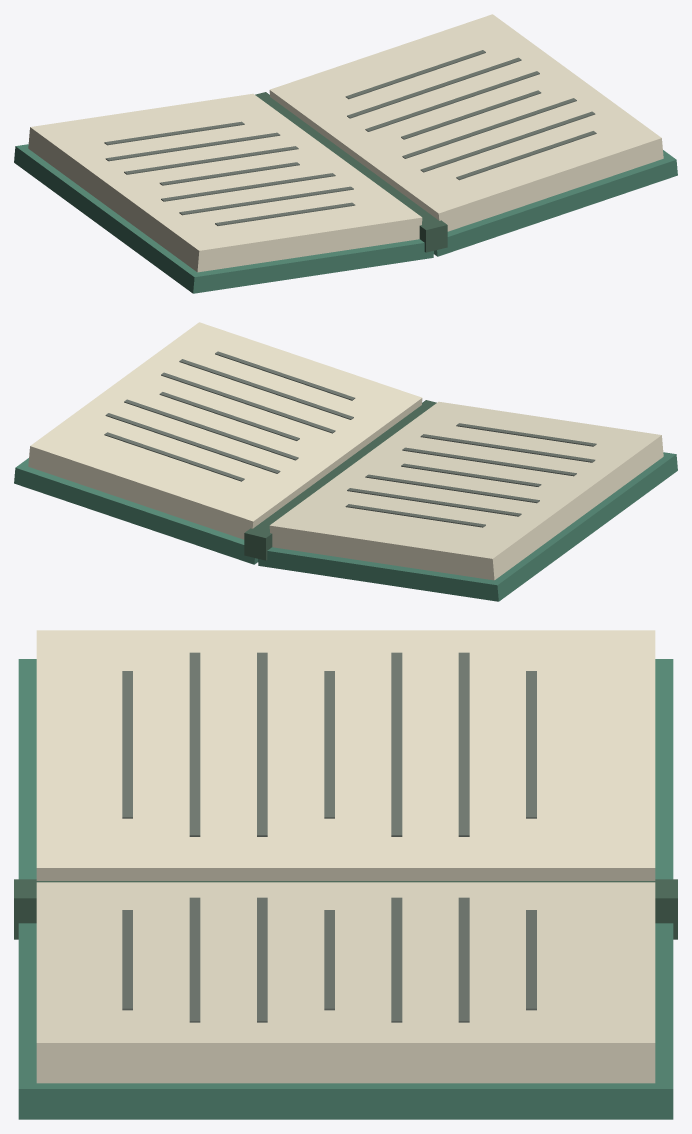
Rendered from activity-reading-book-v1.glb.
3 views of the same model, one above another, from view 1: azimuth 30°, elevation 25°; view 2: azimuth 150°, elevation 25°; view 3: azimuth 270°, elevation 25° (orthographic). The views are drawn at different scales.
Parts seen in each view (by area): view 1: Reading_Book; view 2: Reading_Book; view 3: Reading_Book.
Part boxes in pixels (x1,y1,x2,y2): Reading_Book: (14,14,677,293); Reading_Book: (14,322,677,601); Reading_Book: (14,630,677,1119).
Size of the model in its own units: 0.5625 by 0.0657 by 0.365.
